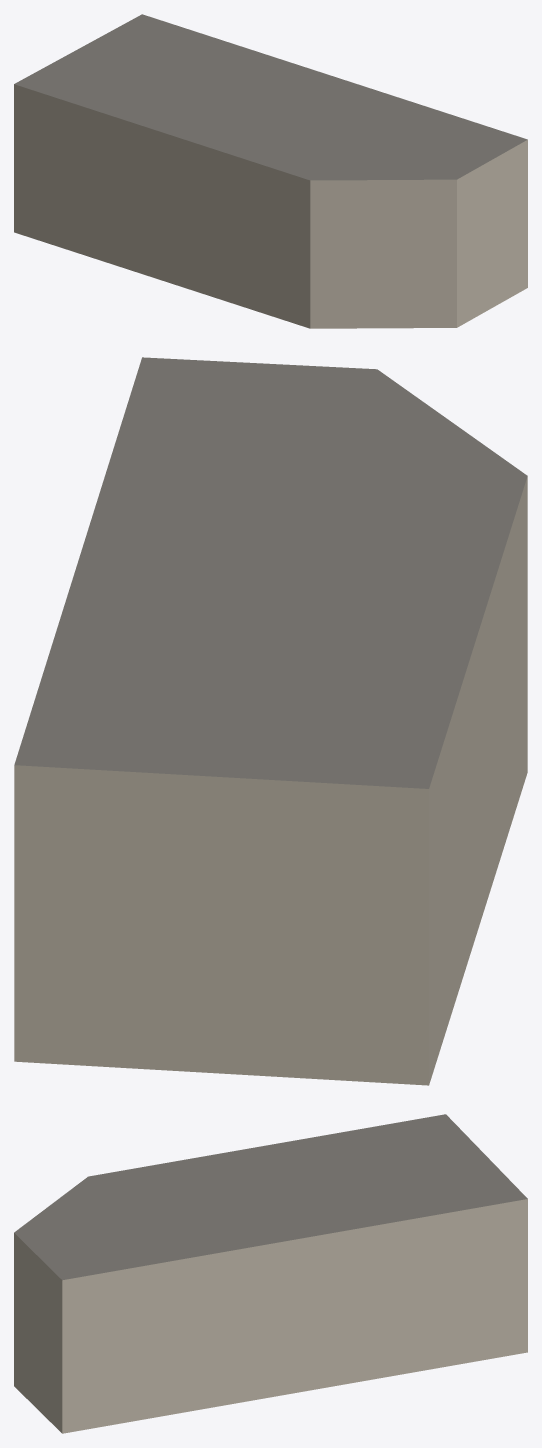
3 views of the same model, one above another, from view 1: azimuth 30°, elevation 25°; view 2: azimuth 150°, elevation 25°; view 3: azimuth 270°, elevation 25° (orthographic). The views are drawn at different scales.
Parts seen in each view (by area): view 1: HP-w369342590; view 2: HP-w369342590; view 3: HP-w369342590.
Part boxes in pixels (left/top/right/bottom): HP-w369342590: left=14, top=14, right=527, bottom=328; HP-w369342590: left=14, top=357, right=527, bottom=1085; HP-w369342590: left=14, top=1114, right=527, bottom=1433.
Size of the model in its own units: 41.76 by 18 by 54.62.
